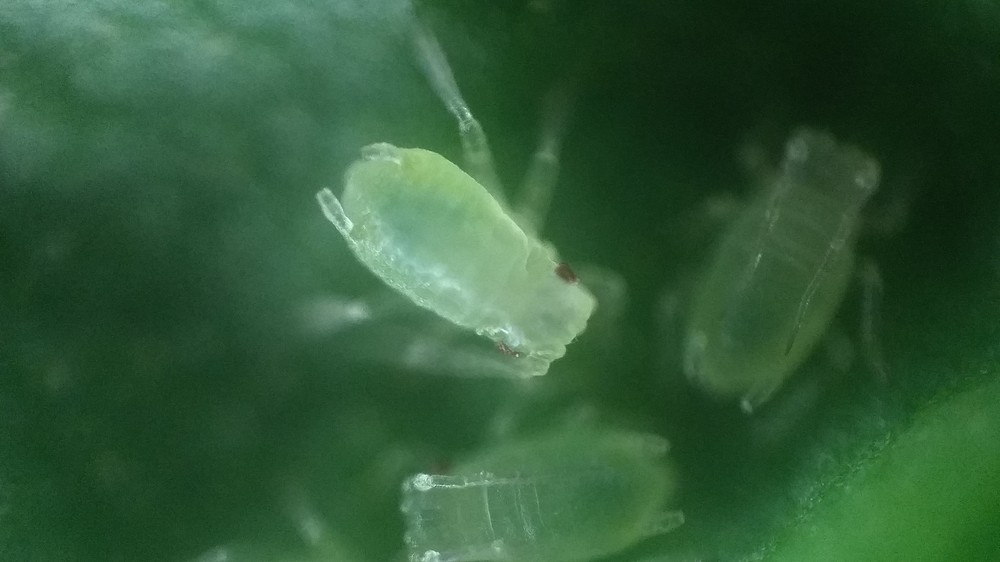Pulgon: (258, 44, 638, 405), (647, 88, 924, 424), (385, 403, 713, 562)
